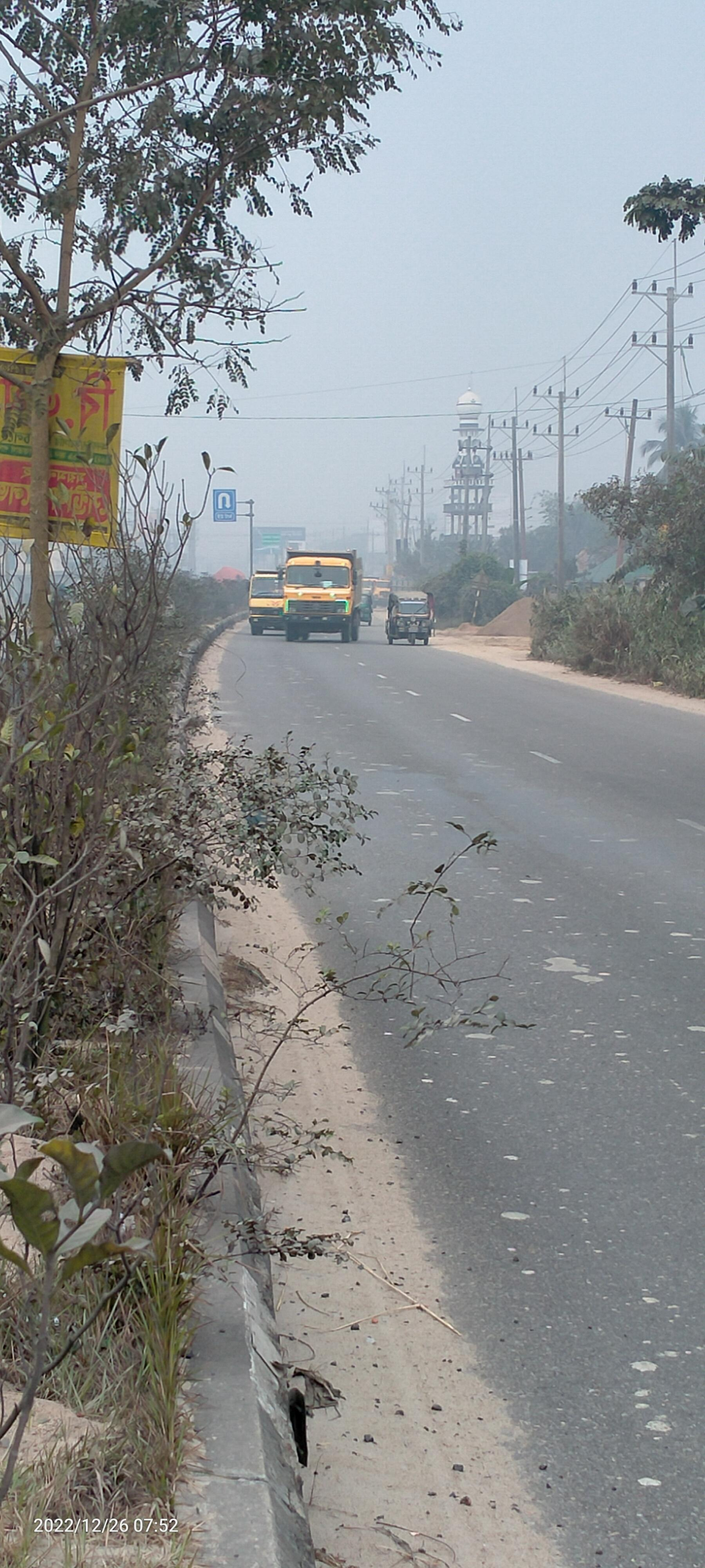Truck: (276, 544, 364, 650), (243, 561, 294, 640)
